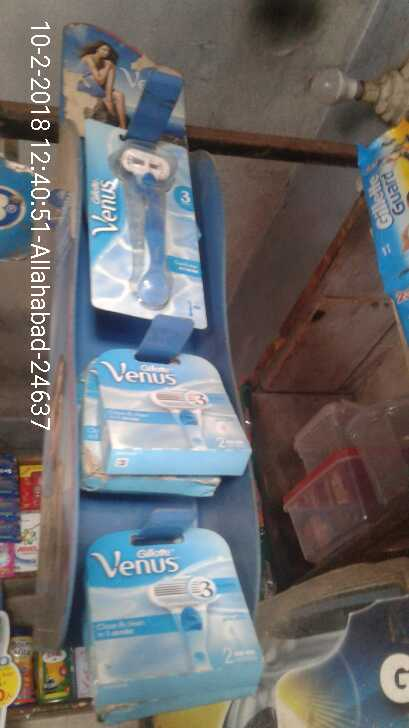venus: (73, 526, 266, 699), (81, 115, 210, 325), (96, 345, 254, 476)
